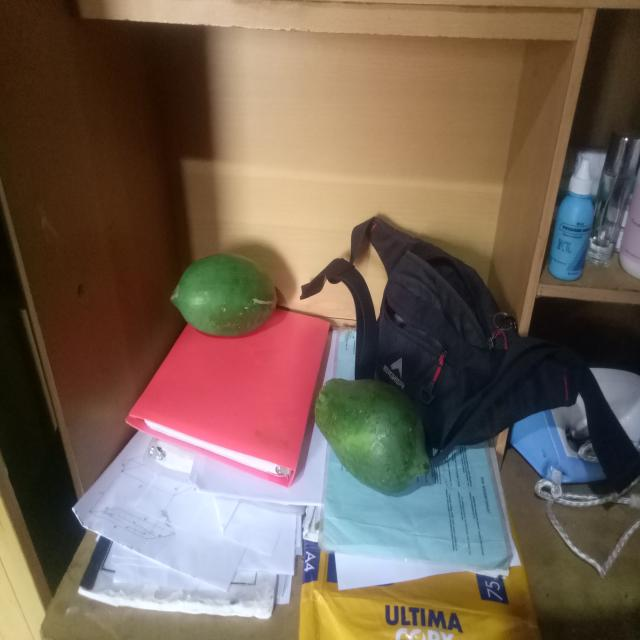Pepaya unrippen: (308, 388, 437, 508), (168, 254, 288, 348)
